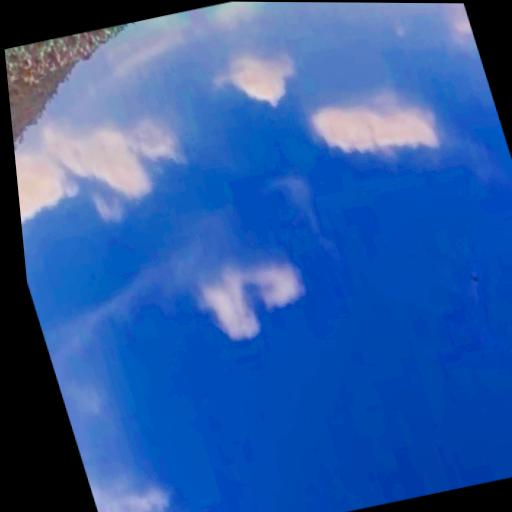drones: (465, 268, 488, 293)
